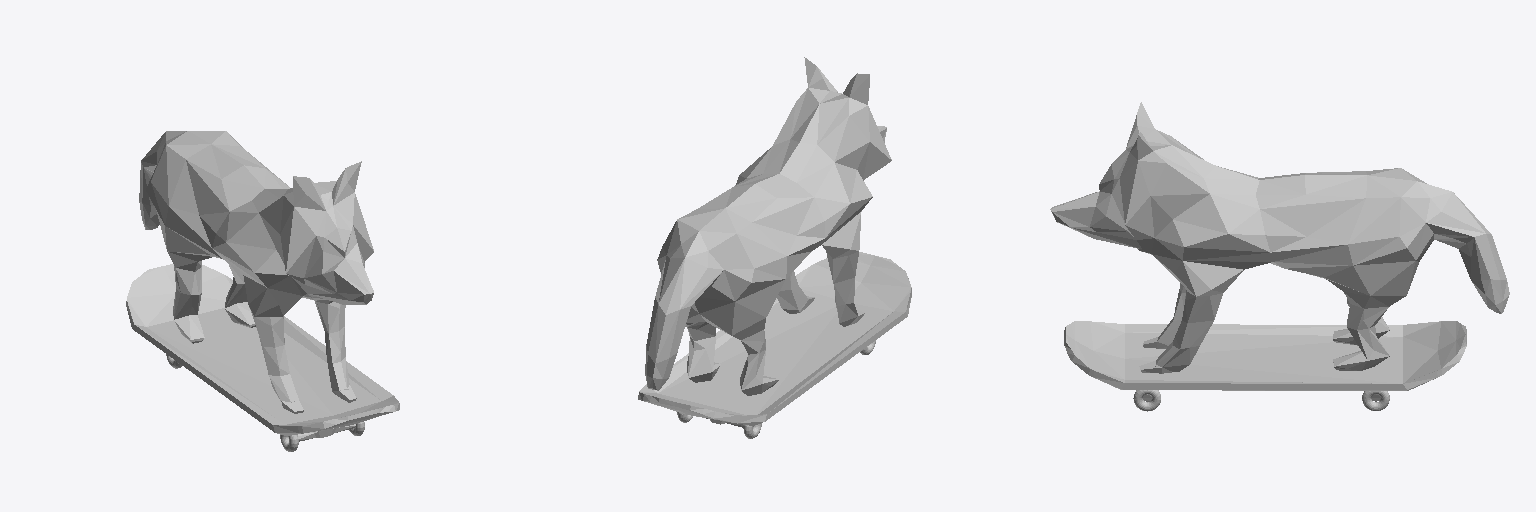
The model's file is Fuchs30.obj.
3 renders of one model, left to right at view 1: azimuth 30°, elevation 25°; view 2: azimuth 150°, elevation 25°; view 3: azimuth 270°, elevation 25°, orthographic.
Size of the model in its own units: 3.58 by 7.85 by 11.78.